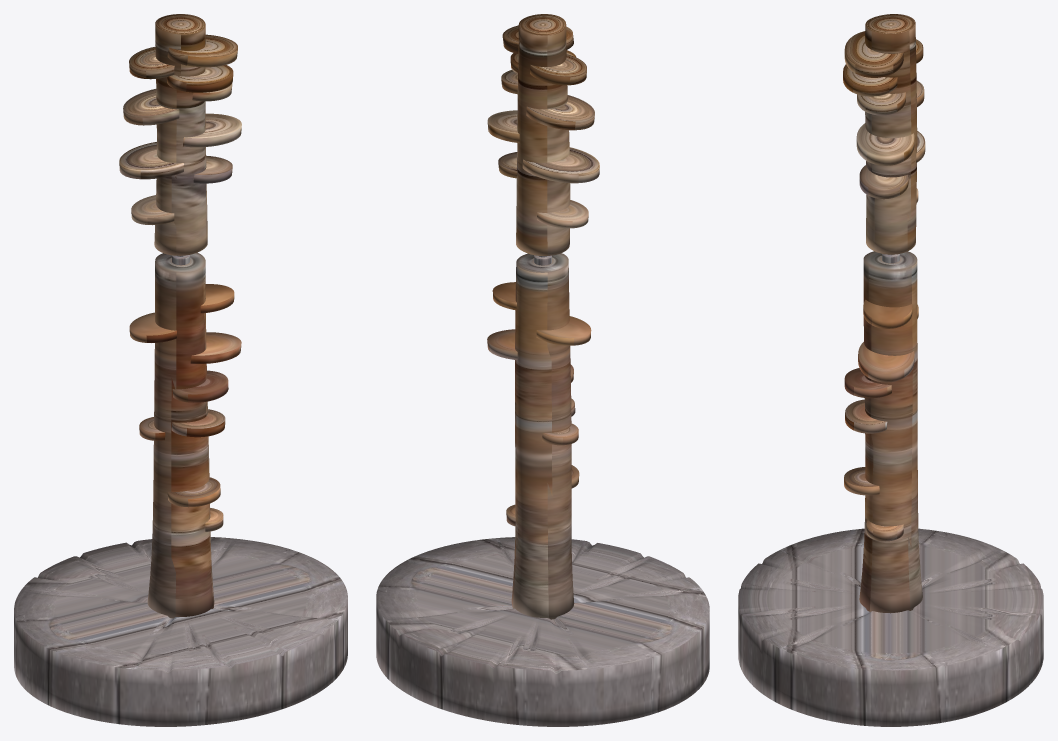
Rendered from escultura-esc-045.glb.
The picture shows the model from 3 angles, left to right: view 1: azimuth 30°, elevation 25°; view 2: azimuth 150°, elevation 25°; view 3: azimuth 270°, elevation 25°; orthographic projection.
Visible parts, largest first — view 1: world; view 2: world; view 3: world.
Boxes of the visible parts, x1,y1,x2,y2 form: world: (14,14,347,726); world: (376,14,709,726); world: (738,14,1043,726).
Size of the model in its own units: 0.6096 by 1.25 by 0.5486.
Materials: 1 (1 with a texture image).
